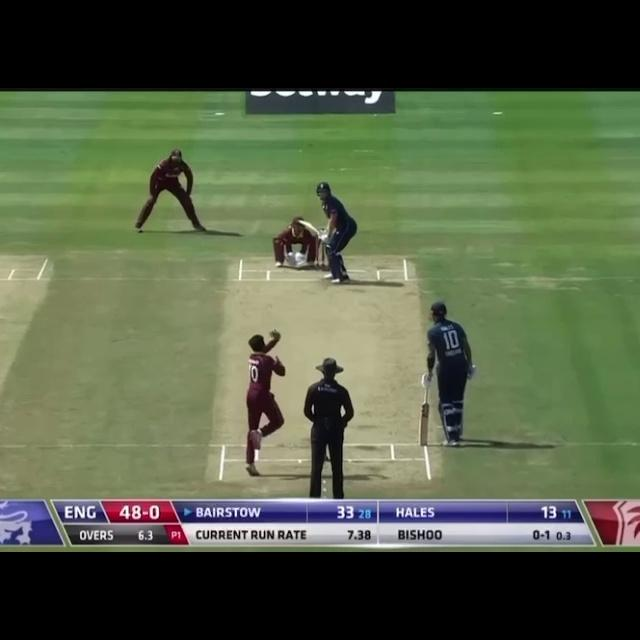umpire: (297, 354, 363, 499)
